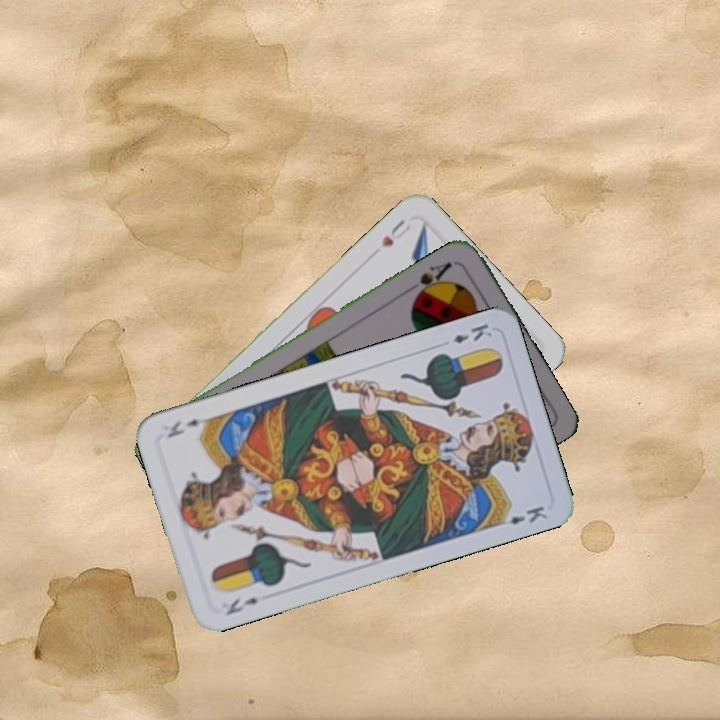EK: (449, 319, 495, 346), (222, 593, 261, 618)
HU: (377, 215, 414, 250)
SA: (404, 258, 455, 302)
